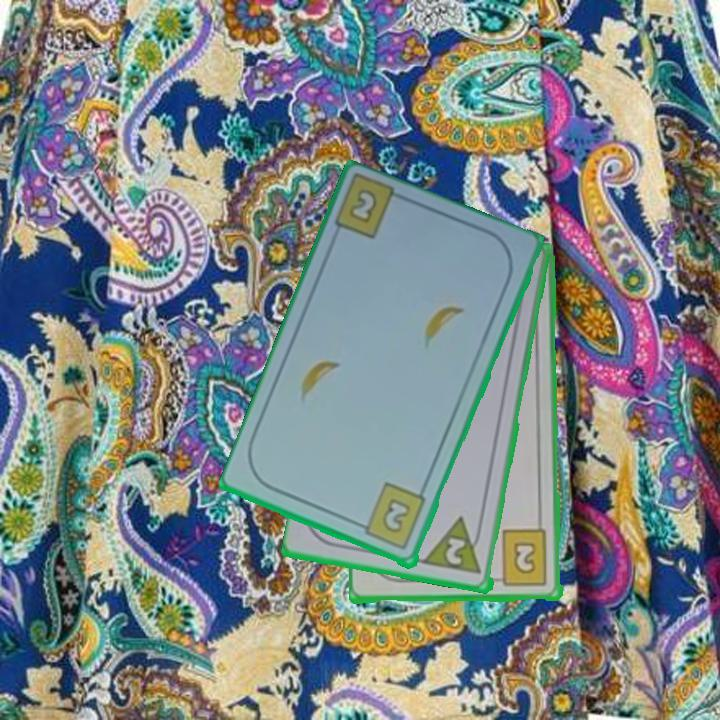2b: (353, 480, 429, 553), (490, 528, 551, 589), (348, 189, 378, 223)
2p: (422, 514, 487, 578)
